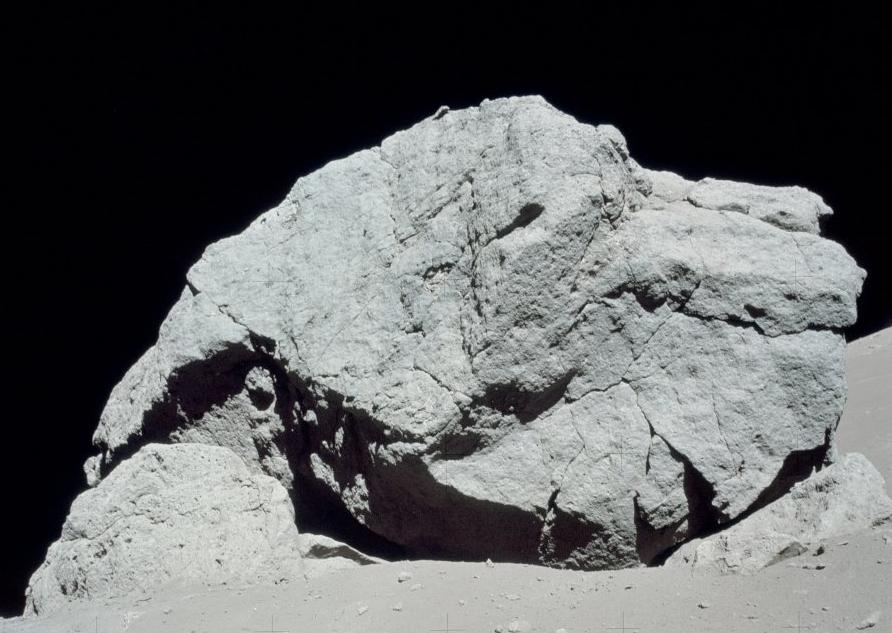rock: (89, 96, 864, 569), (26, 446, 303, 614), (666, 453, 892, 573)
